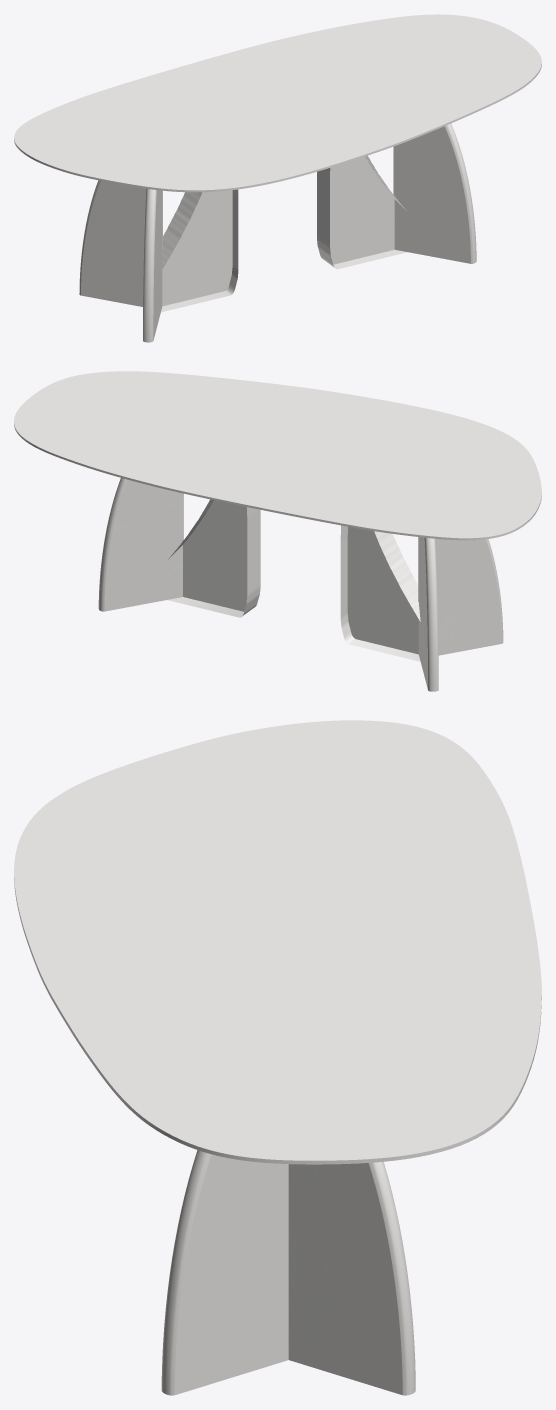
Rendered from purewhite_leaf2_facet_plane.glb.
3 renders of one model, top to bottom at view 1: azimuth 30°, elevation 25°; view 2: azimuth 150°, elevation 25°; view 3: azimuth 270°, elevation 25°, orthographic. The views are drawn at different scales.
Parts seen in each view (by area): view 1: facet_leaf2, plane_singleright2, plane_single1, plane_single2, plane_singleleft1, plane_singleright1; view 2: facet_leaf2, plane_singleleft2, plane_single1, plane_single2, plane_singleright1, plane_singleleft1; view 3: facet_leaf2, plane_singleright2, plane_singleleft2.
Part boxes in pixels (left/top/right/bottom): facet_leaf2: left=14, top=14, right=541, bottom=192; plane_singleright2: left=393, top=123, right=476, bottom=263; plane_single1: left=161, top=189, right=238, bottom=312; plane_single2: left=317, top=155, right=407, bottom=269; plane_singleleft1: left=79, top=180, right=162, bottom=306; plane_singleright1: left=143, top=188, right=162, bottom=342; facet_leaf2: left=14, top=371, right=541, bottom=540; plane_singleleft2: left=98, top=478, right=183, bottom=611; plane_single1: left=340, top=525, right=420, bottom=661; plane_single2: left=168, top=499, right=260, bottom=617; plane_singleright1: left=418, top=537, right=503, bottom=655; plane_singleleft1: left=418, top=537, right=438, bottom=691; facet_leaf2: left=14, top=720, right=541, bottom=1164; plane_singleright2: left=161, top=1150, right=288, bottom=1395; plane_singleleft2: left=288, top=1162, right=415, bottom=1395.
Bounding box in the file's own units: 7.5 × 2.49 × 3.8.
Materials: 1 (1 with a texture image).
